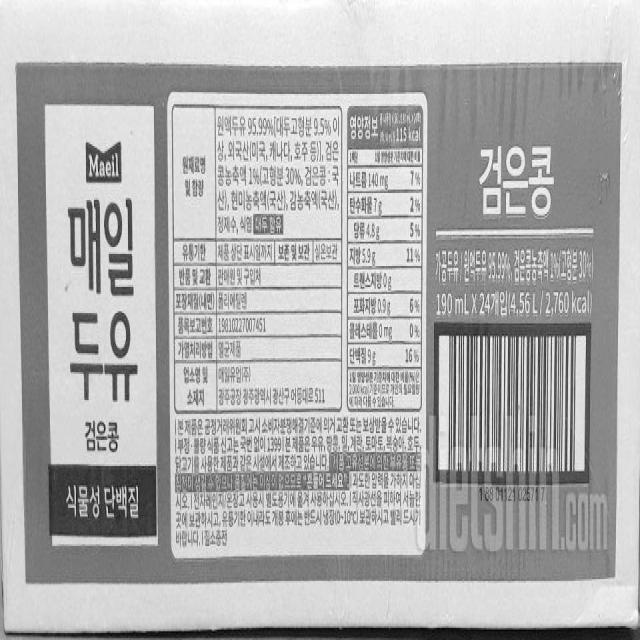Nutrition Label: (345, 95, 425, 417)
